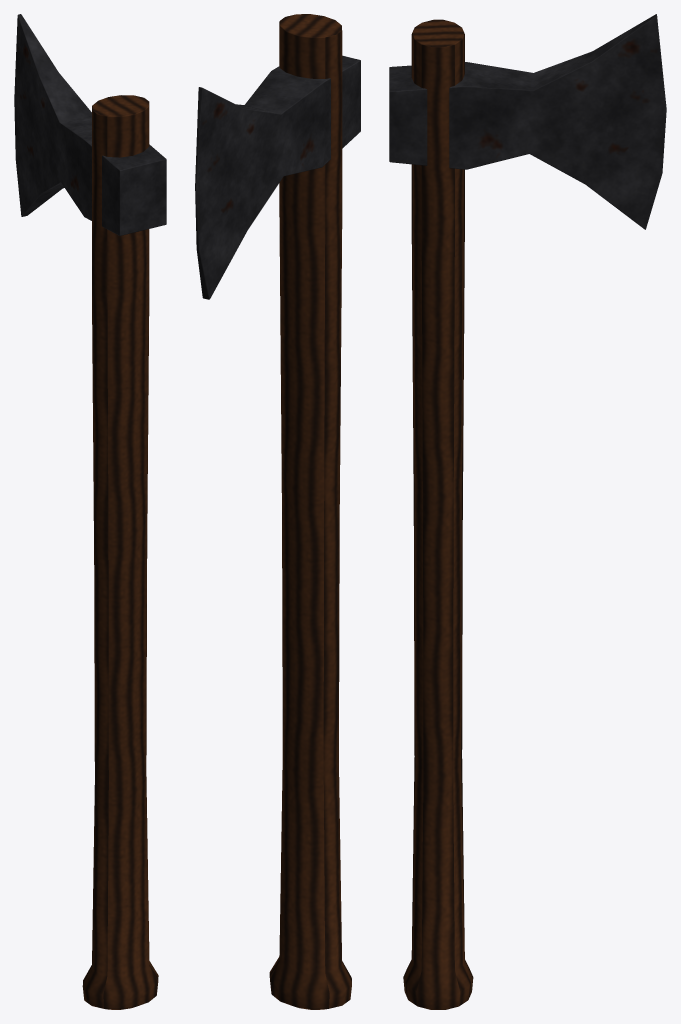
Rendered from iron_axe.glb.
3 views of the same model, side by side, from view 1: azimuth 30°, elevation 25°; view 2: azimuth 150°, elevation 25°; view 3: azimuth 270°, elevation 25° (orthographic). The views are drawn at different scales.
Parts seen in each view (by area): view 1: iron_axe; view 2: iron_axe; view 3: iron_axe.
Boxes of the visible parts, x1=… form: iron_axe: x1=14, y1=14, x2=166, y2=1009; iron_axe: x1=195, y1=14, x2=360, y2=1009; iron_axe: x1=389, y1=14, x2=666, y2=1009.
Bounding box in the file's own units: 0.0609 × 0.7747 × 0.198.
2 materials, 2 textured.
